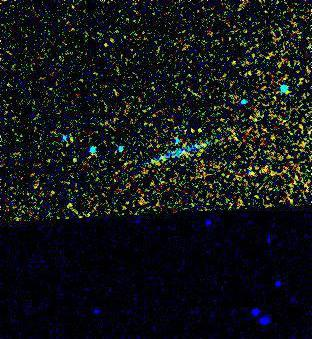star: (60, 147, 90, 177)
